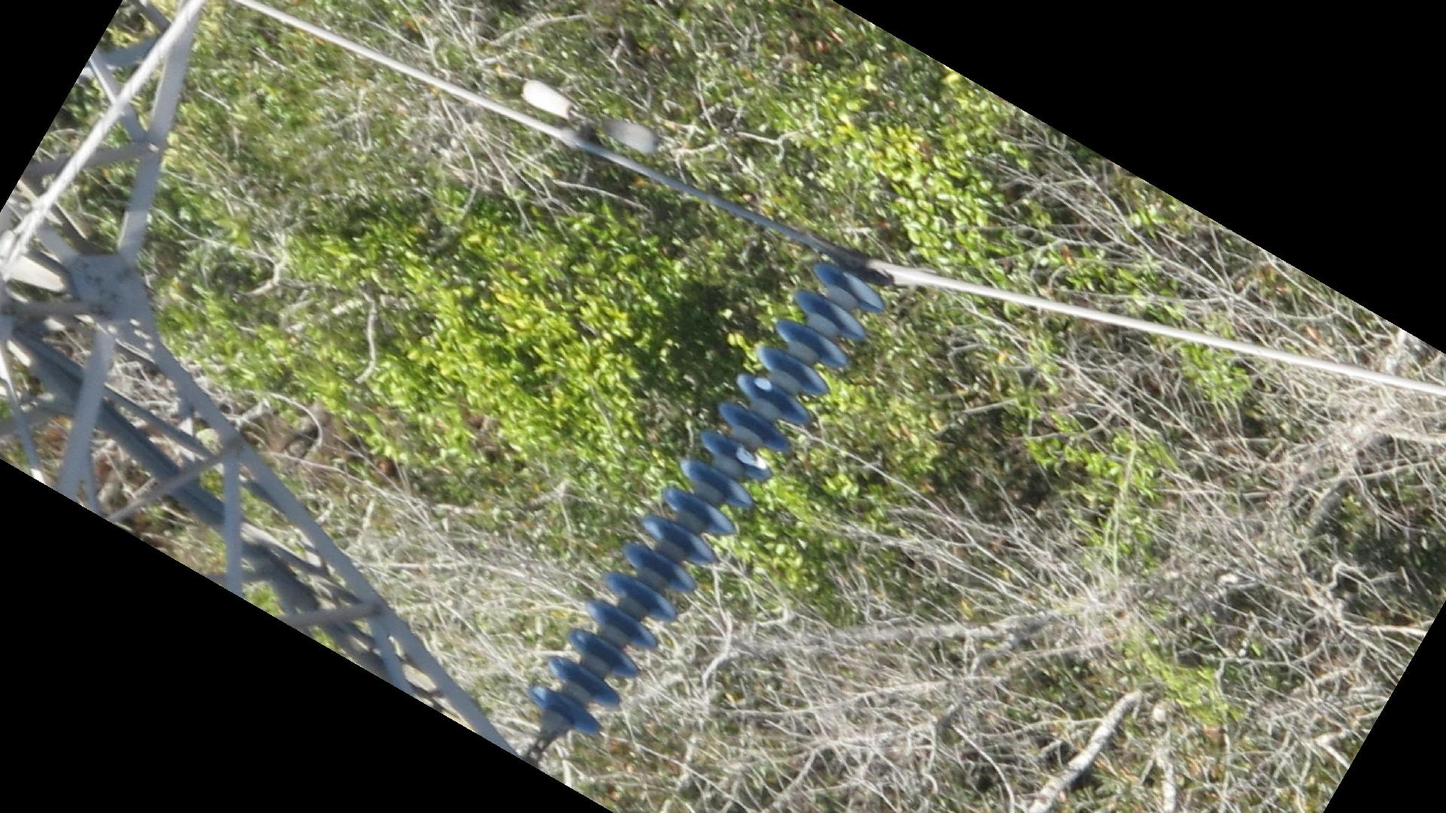insulator: (526, 255, 888, 744)
insulator_breakage: (731, 439, 773, 478), (746, 373, 779, 399)
